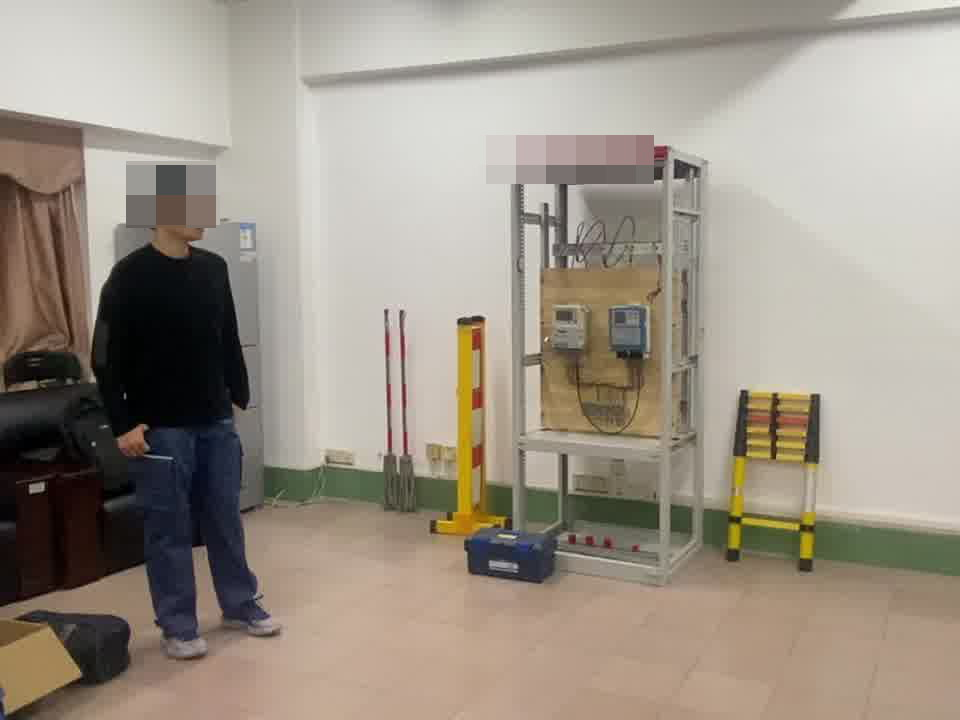downsuit: (128, 431, 263, 628)
hand: (119, 422, 149, 457)
noear: (151, 193, 206, 241)
person: (88, 163, 281, 649)
unhalt: (133, 168, 216, 252)
upcloth: (98, 249, 251, 424)
